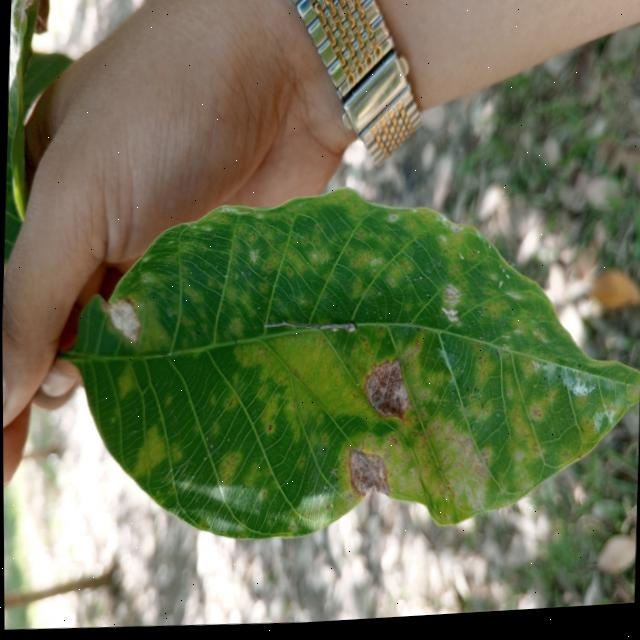Leaf-Blight: (361, 358, 408, 423), (345, 449, 390, 503), (97, 296, 142, 345)
